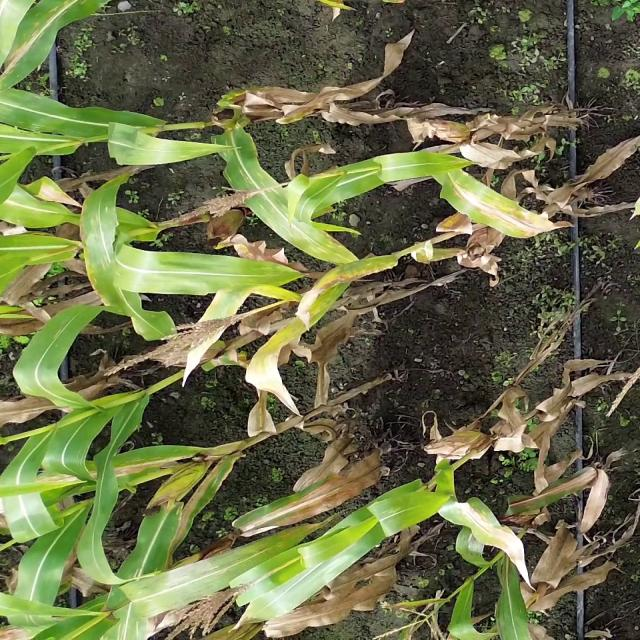gray-leaf-spot: (217, 149, 328, 254), (81, 197, 133, 307)
northern-leaf-blight: (449, 173, 555, 242), (449, 502, 531, 582)
